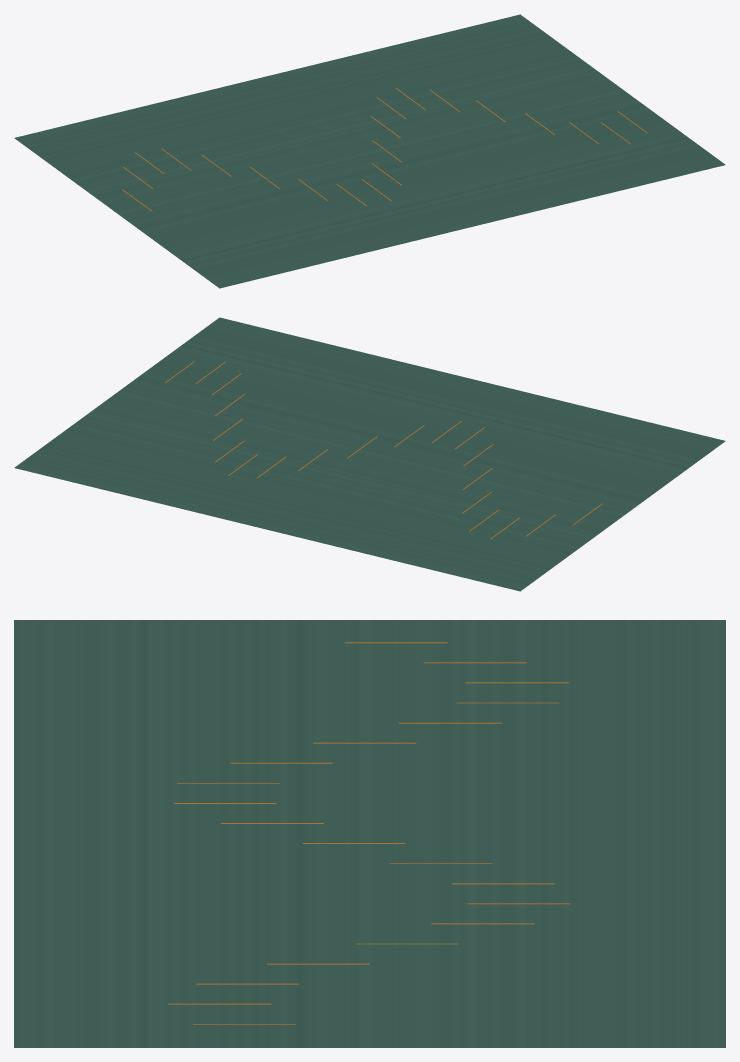
File: 253_L118_L16_LayerReference.obj
The picture shows the model from 3 angles, top to bottom: view 1: azimuth 30°, elevation 25°; view 2: azimuth 150°, elevation 25°; view 3: azimuth 270°, elevation 25°; orthographic projection. The views are drawn at different scales.
Parts seen in each view (by area): view 1: 253_L118_L16_LayerReference; view 2: 253_L118_L16_LayerReference; view 3: 253_L118_L16_LayerReference.
Boxes of the visible parts, left/top/right/bottom form: 253_L118_L16_LayerReference: left=14, top=14, right=725, bottom=288; 253_L118_L16_LayerReference: left=14, top=317, right=725, bottom=591; 253_L118_L16_LayerReference: left=14, top=620, right=725, bottom=1047.
Bounding box in the file's own units: 0.472 × 0.000489 × 0.332.
Materials: 2 (2 with a texture image).
